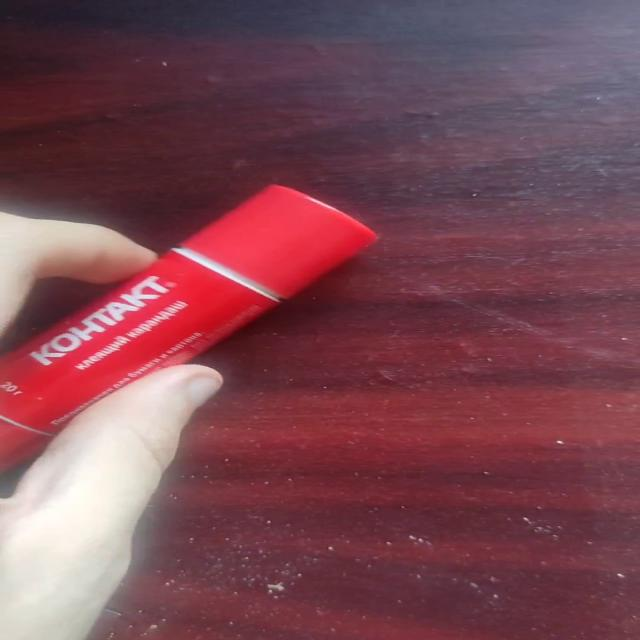glue: (0, 182, 379, 474)
